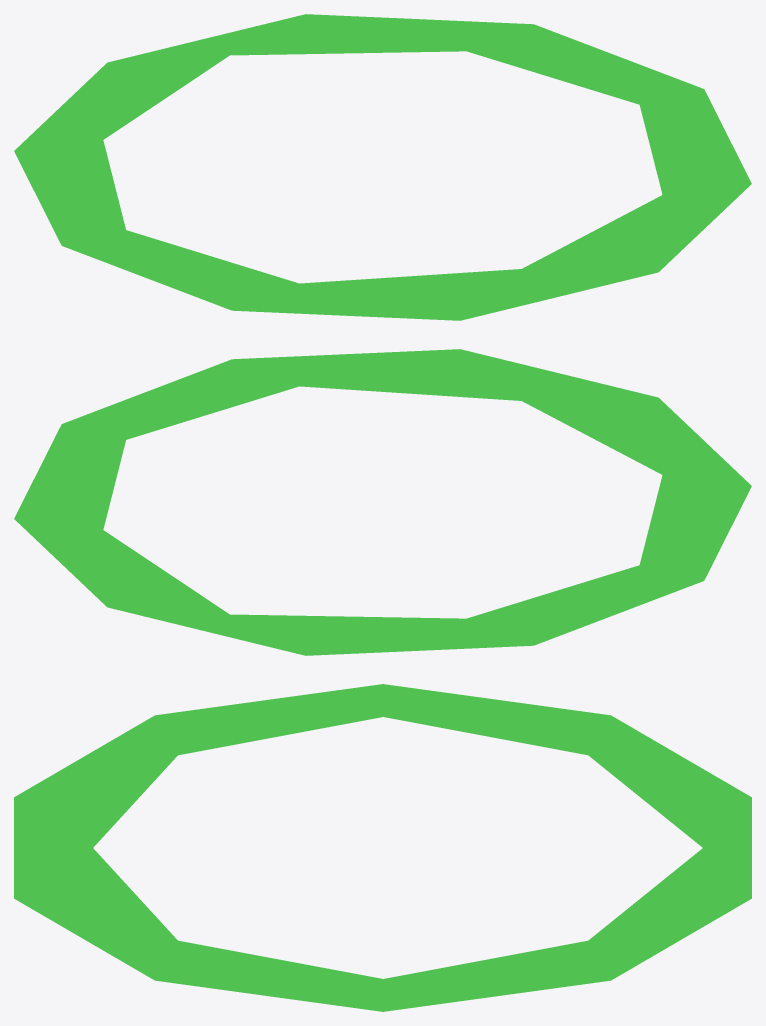
The model's file is dummy_spps2.gltf.
3 views of the same model, one above another, from view 1: azimuth 30°, elevation 25°; view 2: azimuth 150°, elevation 25°; view 3: azimuth 270°, elevation 25° (orthographic). The views are drawn at different scales.
Visible parts, largest first — view 1: dummy_spps2; view 2: dummy_spps2; view 3: dummy_spps2.
Boxes of the visible parts, x1,y1,x2,y2 form: dummy_spps2: [14, 14, 751, 320]; dummy_spps2: [14, 349, 751, 655]; dummy_spps2: [14, 684, 751, 1011].
Size of the model in its own units: 0.6802 by 0 by 0.647.
